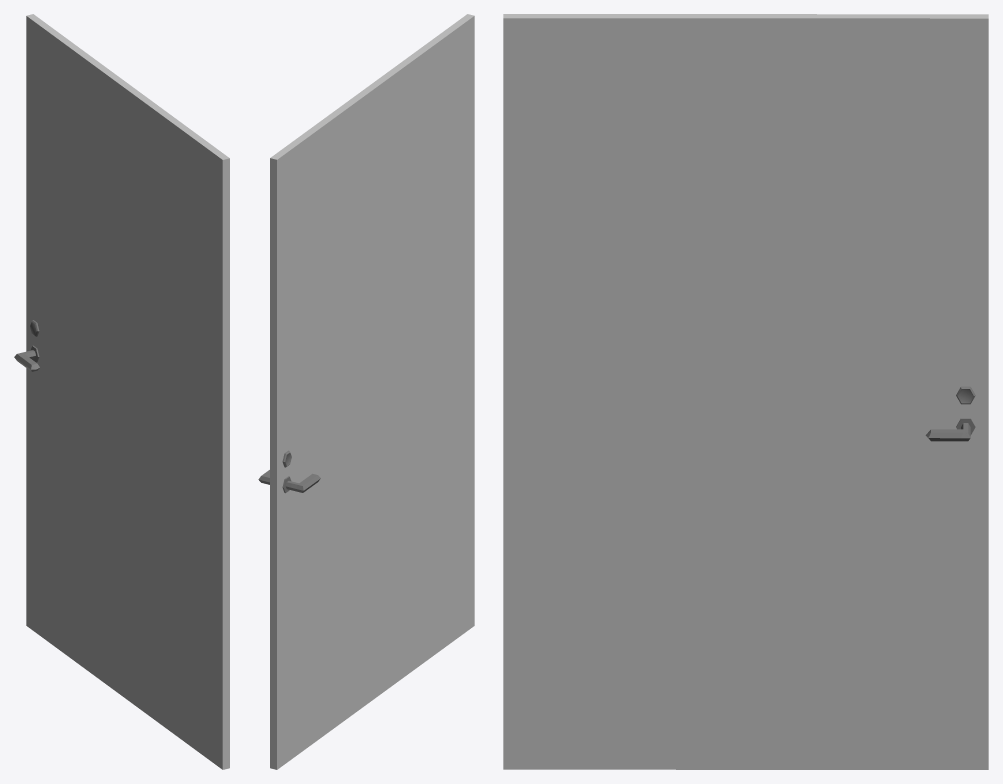
The model's file is SW_corridor__R_lobby_R_Aula_Ovi_008.FBX.
3 views of the same model, side by side, from view 1: azimuth 30°, elevation 25°; view 2: azimuth 150°, elevation 25°; view 3: azimuth 270°, elevation 25° (orthographic). The views are drawn at different scales.
Visible parts, largest first — view 1: SW_corridor__R_lobby_R_Aula_Ovi_008; view 2: SW_corridor__R_lobby_R_Aula_Ovi_008; view 3: SW_corridor__R_lobby_R_Aula_Ovi_008.
Boxes of the visible parts, <box> form: SW_corridor__R_lobby_R_Aula_Ovi_008: <box>14,14,229,769</box>; SW_corridor__R_lobby_R_Aula_Ovi_008: <box>258,14,474,769</box>; SW_corridor__R_lobby_R_Aula_Ovi_008: <box>503,14,988,769</box>.
Bounding box in the file's own units: 16.05 × 120 × 205.
